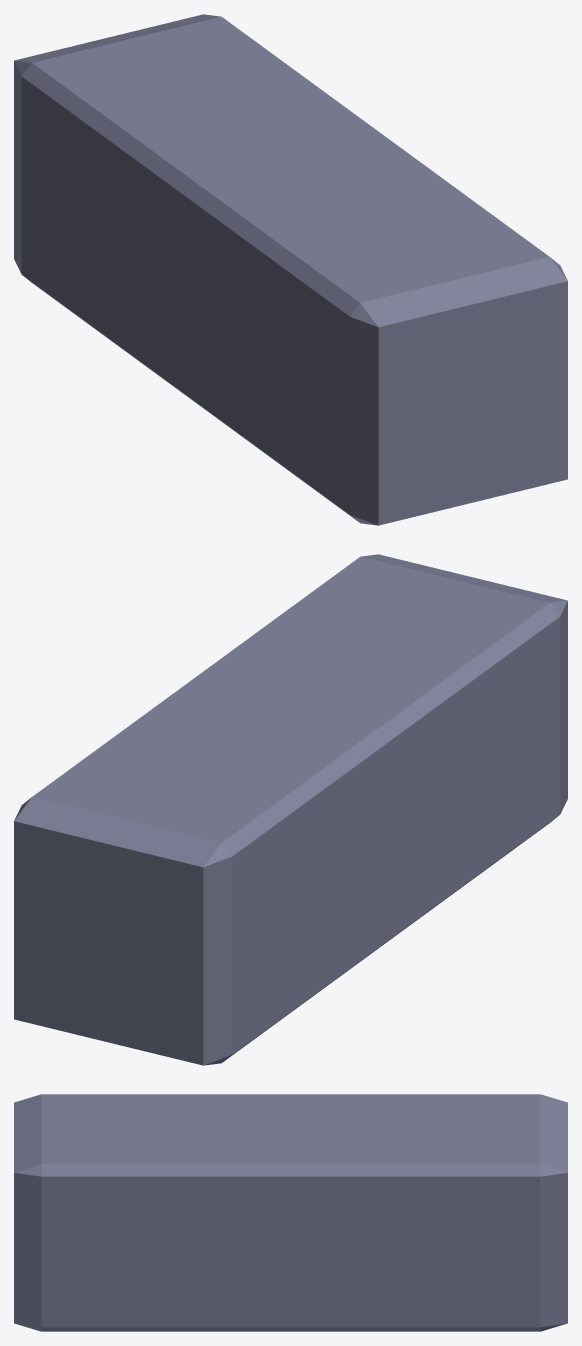
File: BeveledAccentBrick.fbx
3 renders of one model, top to bottom at view 1: azimuth 30°, elevation 25°; view 2: azimuth 150°, elevation 25°; view 3: azimuth 270°, elevation 25°, orthographic. The views are drawn at different scales.
Visible parts, largest first — view 1: BeveledAccentBrick; view 2: BeveledAccentBrick; view 3: BeveledAccentBrick.
Part boxes in pixels (x1,y1,x2,y2): BeveledAccentBrick: [14, 14, 567, 525]; BeveledAccentBrick: [14, 554, 567, 1065]; BeveledAccentBrick: [14, 1094, 567, 1331].
Size of the model in its own units: 200 by 200 by 600.
